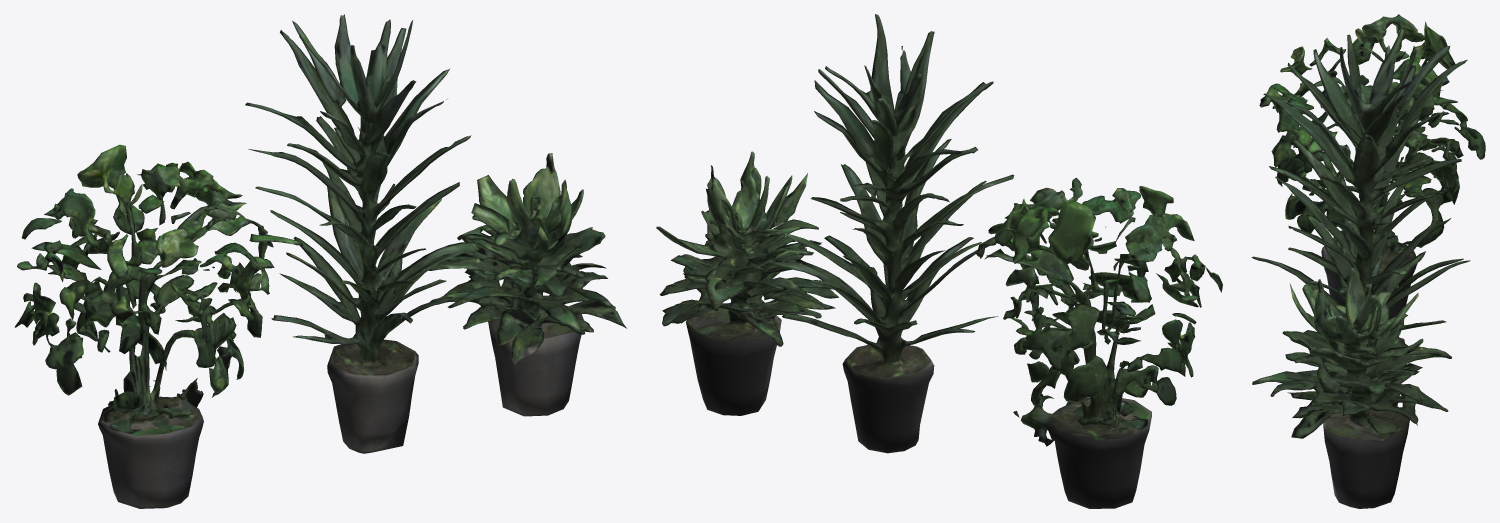
The model's file is plant.glb.
The picture shows the model from 3 angles, left to right: view 1: azimuth 30°, elevation 25°; view 2: azimuth 150°, elevation 25°; view 3: azimuth 270°, elevation 25°; orthographic projection. The views are drawn at different scales.
Size of the model in its own units: 1.97 by 1.43 by 0.778.
1 material, 1 textured.
